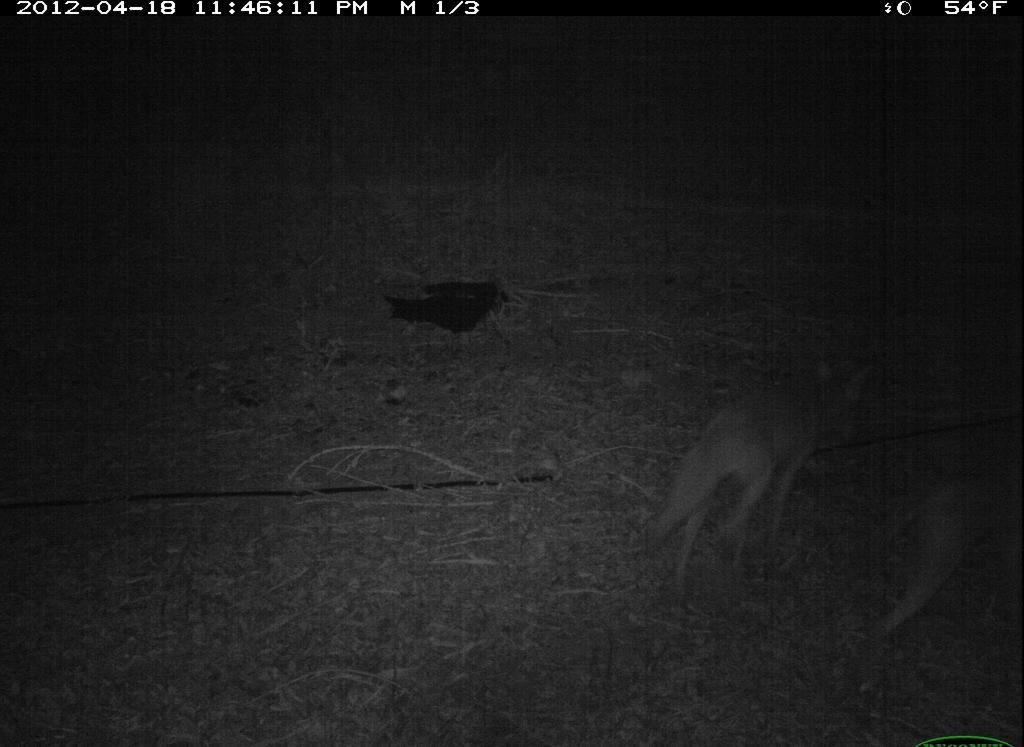coyote: (866, 454, 1024, 650)
